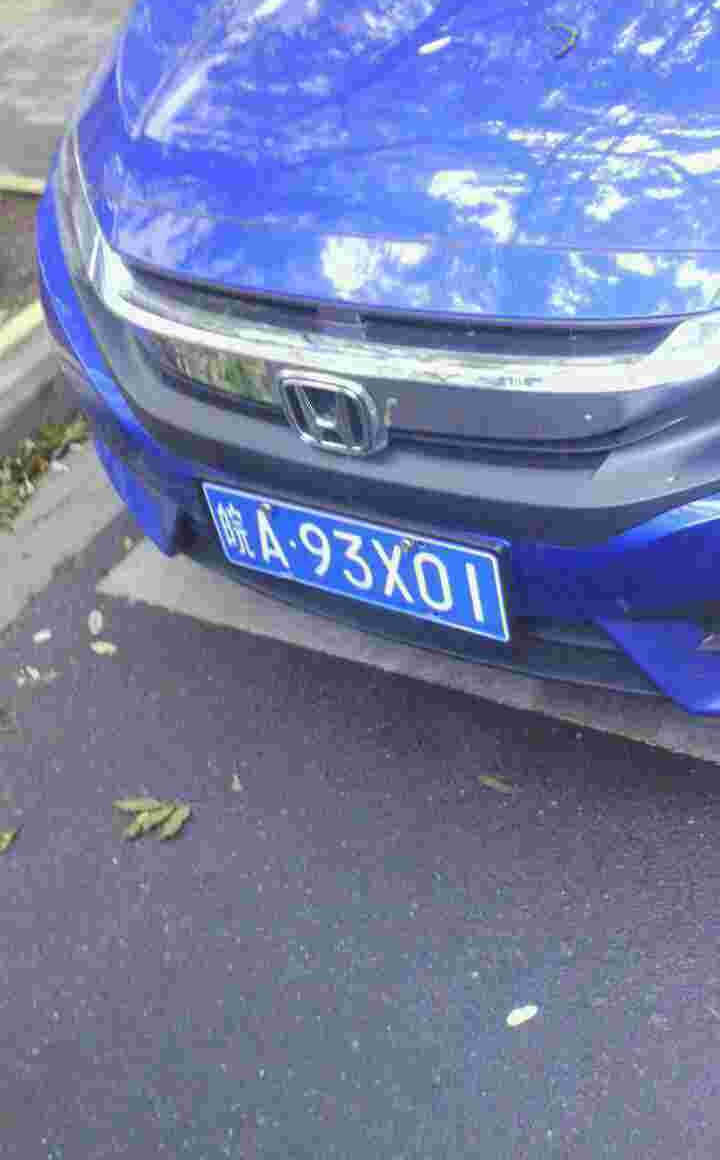license_plate: (202, 484, 516, 642)
